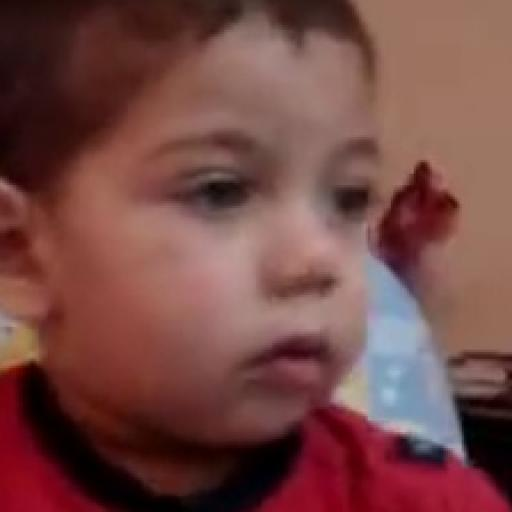Autism: (13, 25, 376, 479)
